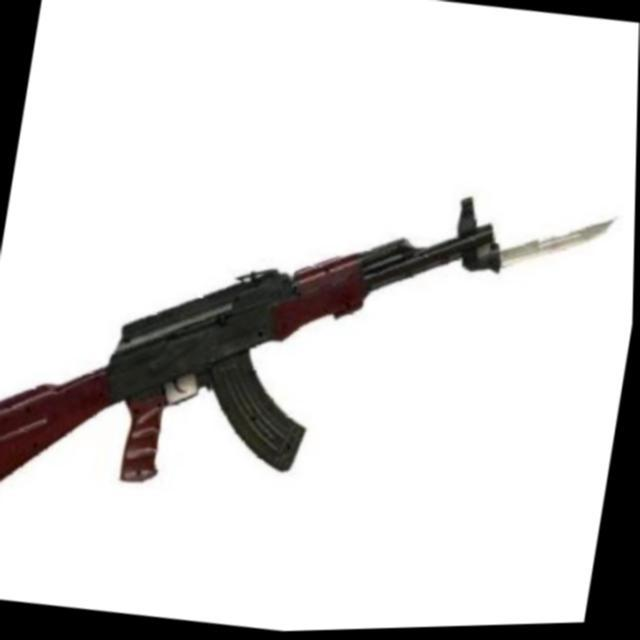weapon: (0, 128, 620, 583)
